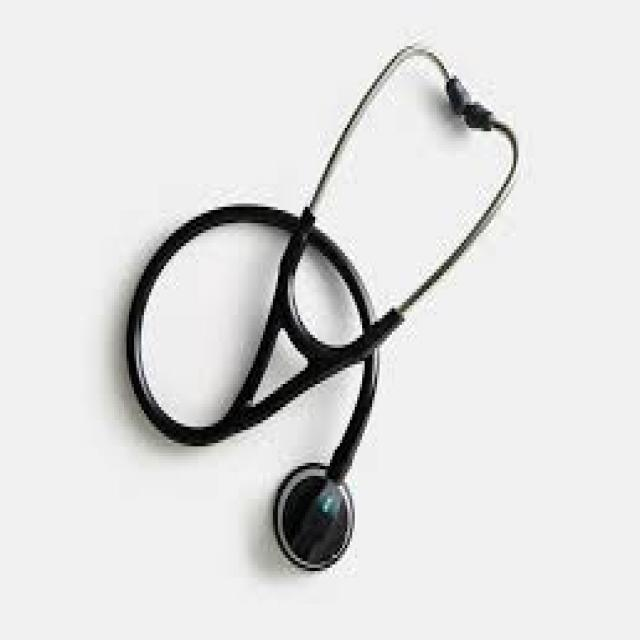stethoscope: (107, 27, 509, 609)
